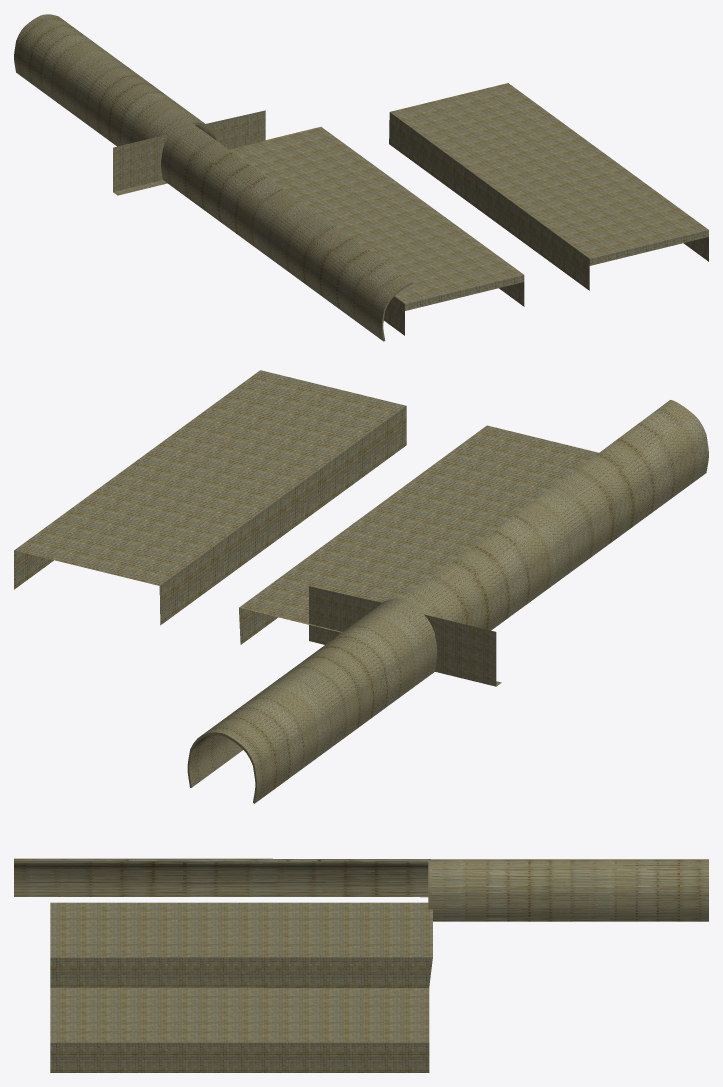
The model's file is Tex Test.fbx.
The picture shows the model from 3 angles, top to bottom: view 1: azimuth 30°, elevation 25°; view 2: azimuth 150°, elevation 25°; view 3: azimuth 270°, elevation 25°; orthographic projection. The views are drawn at different scales.
Visible parts, largest first — view 1: Grounds, Wall; view 2: Grounds, Wall; view 3: Grounds, Wall.
Part boxes in pixels (x1,y1,x2,y2): Grounds: [230, 83, 708, 335]; Wall: [14, 14, 413, 341]; Grounds: [14, 370, 598, 644]; Wall: [187, 400, 708, 803]; Grounds: [50, 902, 432, 1072]; Wall: [14, 858, 708, 921].
Size of the model in its own units: 6490 by 1113 by 10498.
